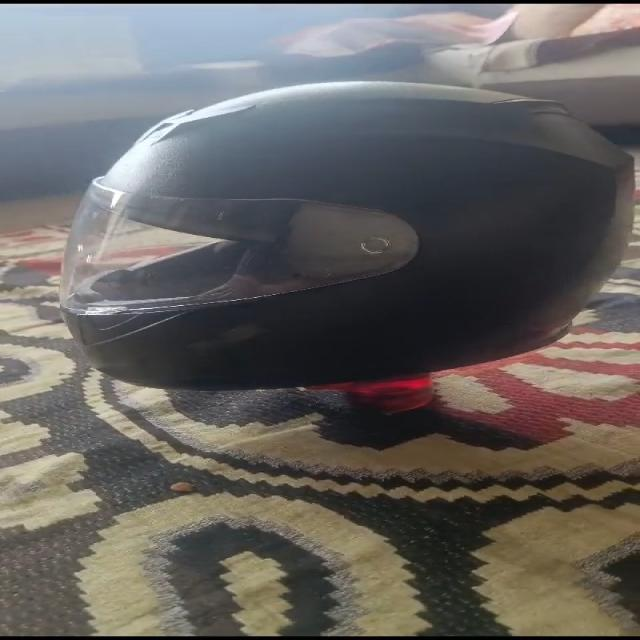Helmet: (61, 81, 637, 389)
